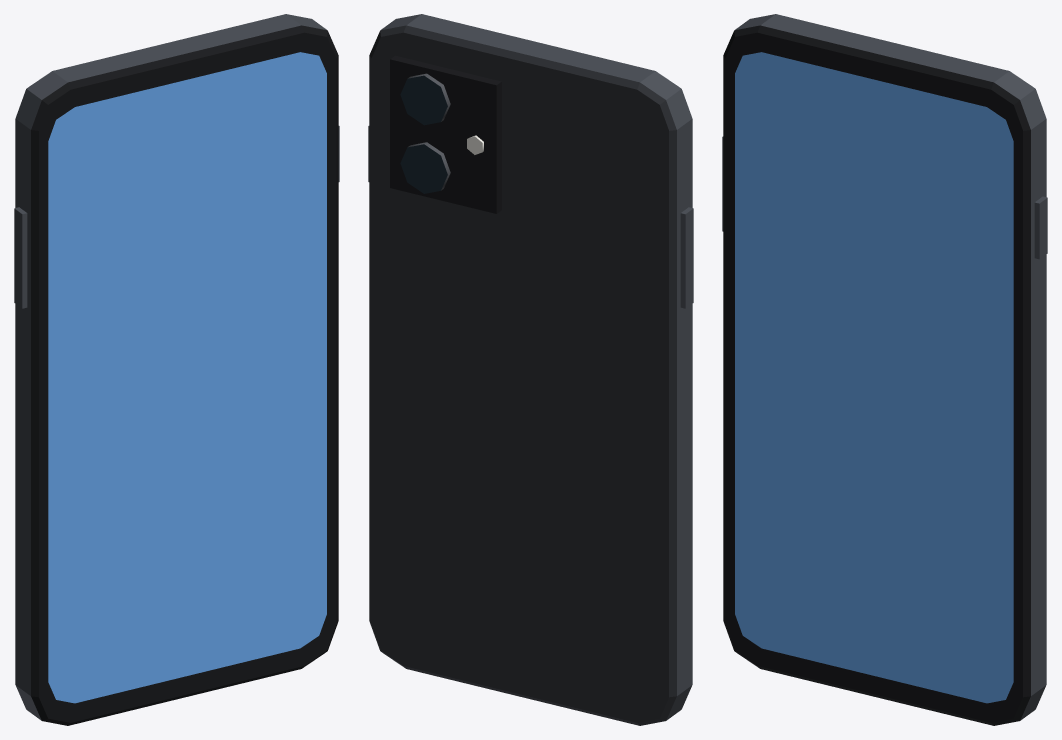
Rendered from phone.glb.
3 views of the same model, side by side, from view 1: azimuth 30°, elevation 25°; view 2: azimuth 150°, elevation 25°; view 3: azimuth 330°, elevation 25° (orthographic).
Parts seen in each view (by area): view 1: phone__body; view 2: phone__body; view 3: phone__body.
Boxes of the visible parts, x1=… form: phone__body: x1=14, y1=14, x2=339, y2=725; phone__body: x1=368, y1=14, x2=693, y2=725; phone__body: x1=722, y1=14, x2=1047, y2=725.
Size of the model in its own units: 0.0774 by 0.15 by 0.0124.
1 material, 1 textured.
